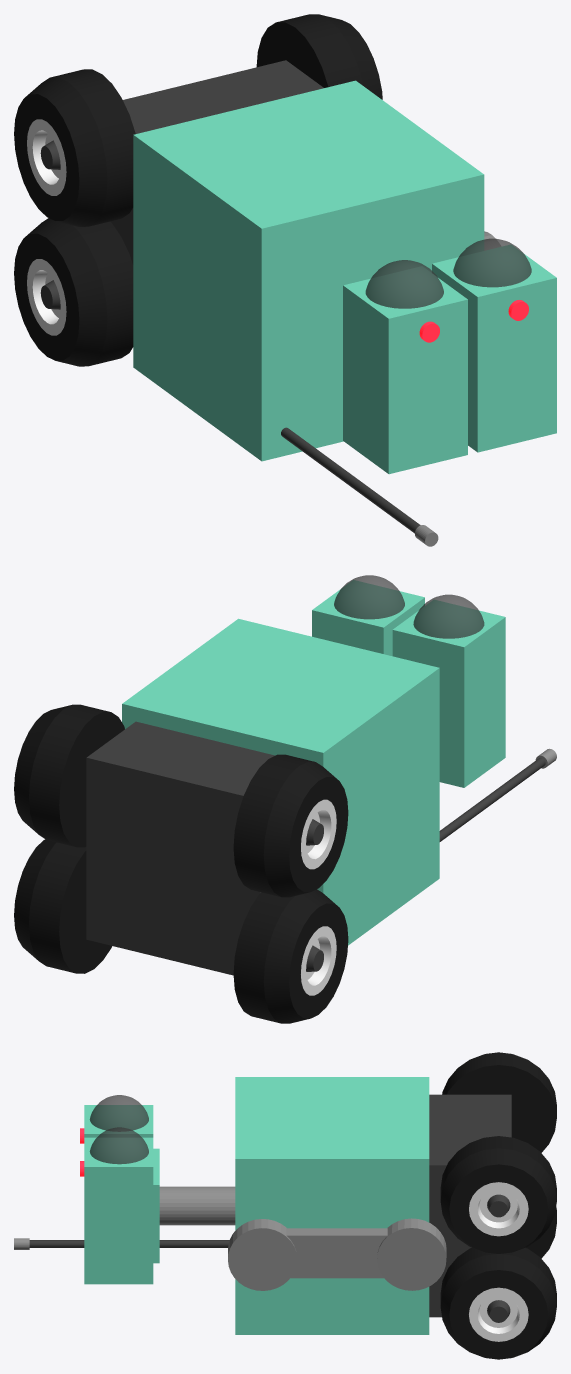
File: r1000-stand.glb
3 views of the same model, one above another, from view 1: azimuth 30°, elevation 25°; view 2: azimuth 150°, elevation 25°; view 3: azimuth 270°, elevation 25° (orthographic). The views are drawn at different scales.
Parts seen in each view (by area): view 1: Cube, Cube.004, Cube.001, wheel_frontLeft.001, wheel_frontLeft.002, Cube.007, wheel_frontLeft.003, Sphere.001, Sphere, Cylinder.006; view 2: Cube, Cube.007, Cube.004, wheel_frontLeft.001, wheel_frontLeft.002, wheel_frontLeft.003, wheel_frontLeft.004, Cube.001, Sphere, Sphere.001, Cylinder.006; view 3: Cube, wheel_frontLeft.003, wheel_frontLeft.004, Cube.001, Cube.007, wheel_frontLeft.001, Cube.008, Cylinder.008, Cylinder, Cylinder.002, Cube.004, Sphere.001 (+4 smaller).
Part boxes in pixels (left/top/right/bottom): Cube: left=133, top=80, right=484, bottom=461; Cube.004: left=343, top=266, right=467, bottom=474; Cube.001: left=432, top=245, right=556, bottom=452; wheel_frontLeft.001: left=14, top=69, right=135, bottom=226; wheel_frontLeft.002: left=14, top=218, right=133, bottom=366; Cube.007: left=110, top=60, right=323, bottom=264; wheel_frontLeft.003: left=256, top=14, right=382, bottom=99; Sphere.001: left=453, top=238, right=531, bottom=287; Sphere: left=365, top=260, right=443, bottom=308; Cylinder.006: left=281, top=427, right=420, bottom=533; Cube: left=122, top=618, right=439, bottom=945; Cube.007: left=86, top=721, right=274, bottom=975; Cube.004: left=392, top=600, right=505, bottom=787; wheel_frontLeft.001: left=233, top=754, right=348, bottom=897; wheel_frontLeft.002: left=233, top=889, right=348, bottom=1023; wheel_frontLeft.003: left=14, top=704, right=124, bottom=847; wheel_frontLeft.004: left=14, top=839, right=112, bottom=973; Cube.001: left=312, top=580, right=424, bottom=656; Sphere: left=413, top=594, right=484, bottom=638; Sphere.001: left=334, top=575, right=404, bottom=619; Cylinder.006: left=439, top=757, right=545, bottom=841; Cube: left=235, top=1077, right=429, bottom=1334; wheel_frontLeft.003: left=440, top=1136, right=556, bottom=1253; wheel_frontLeft.004: left=440, top=1247, right=556, bottom=1359; Cube.001: left=84, top=1137, right=153, bottom=1284; Cube.007: left=429, top=1094, right=511, bottom=1317; wheel_frontLeft.001: left=442, top=1052, right=556, bottom=1152; Cube.008: left=286, top=1228, right=387, bottom=1278; Cylinder.008: left=377, top=1218, right=446, bottom=1290; Cylinder: left=228, top=1219, right=297, bottom=1290; Cylinder.002: left=159, top=1186, right=235, bottom=1225; Cube.004: left=84, top=1105, right=153, bottom=1137; Sphere.001: left=89, top=1127, right=148, bottom=1164.
Size of the model in its own units: 0.6135 by 0.5389 by 1.26.
